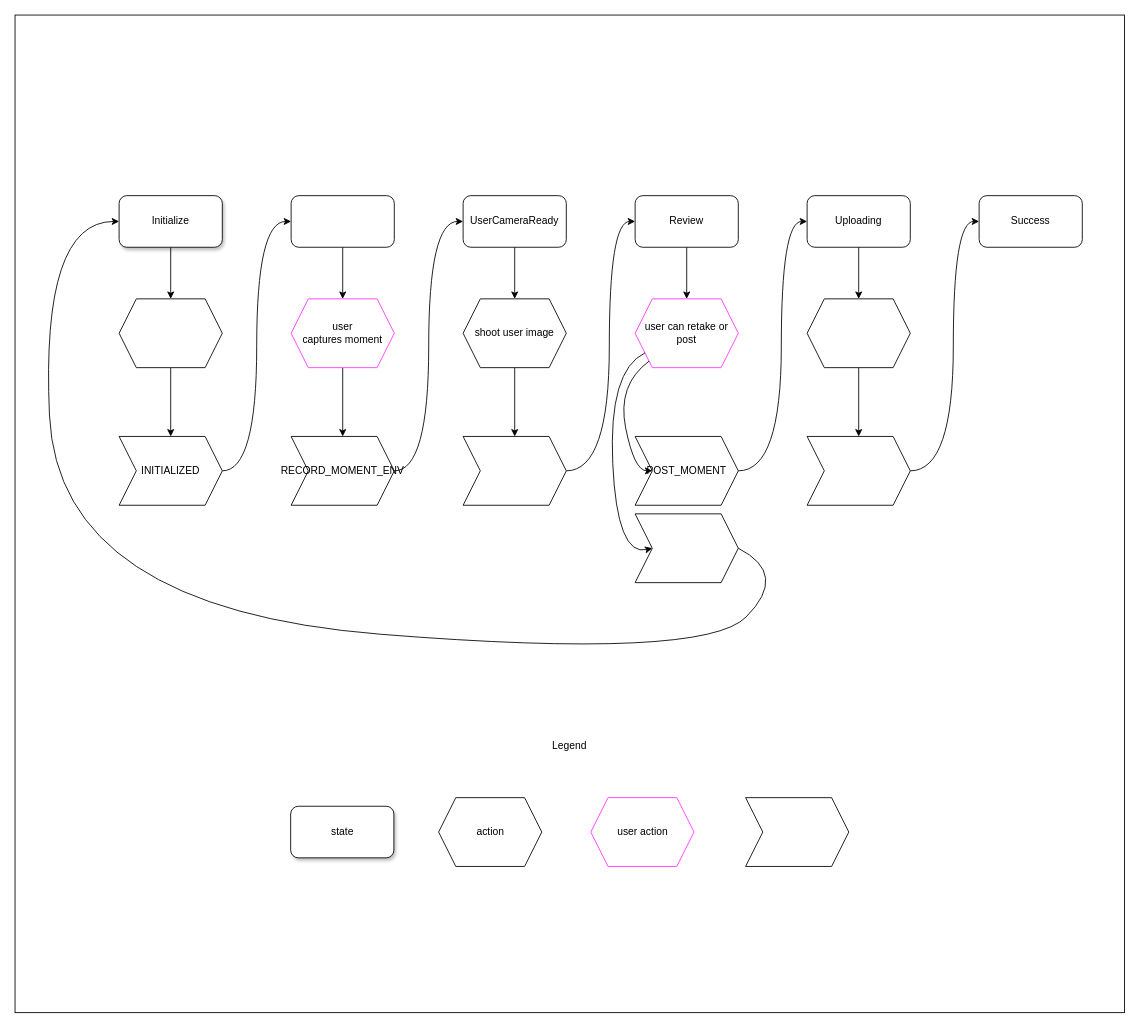
Some shapes in this 1140 by 1028 pixel diagram are drawn without their labels. Here are the shapes that lost their labels. From the top down, the centre of each, then its label:
At pixel 342 221: "EnvCameraReady".
At pixel 170 333: "load camera".
At pixel 858 333: "uploads image to S3".
At pixel 514 470: "RECORD_MOMENT_USER".
At pixel 858 470: "UPLOAD_SUCCESS".
At pixel 686 548: "RETAKE_MOMENT".
At pixel 797 831: "state update".
